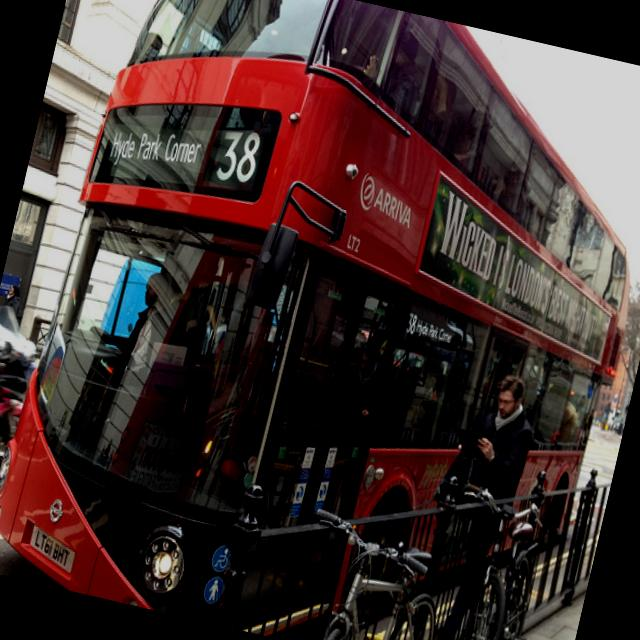Vehicle: (0, 0, 640, 640), (0, 335, 39, 474), (0, 283, 52, 361)
